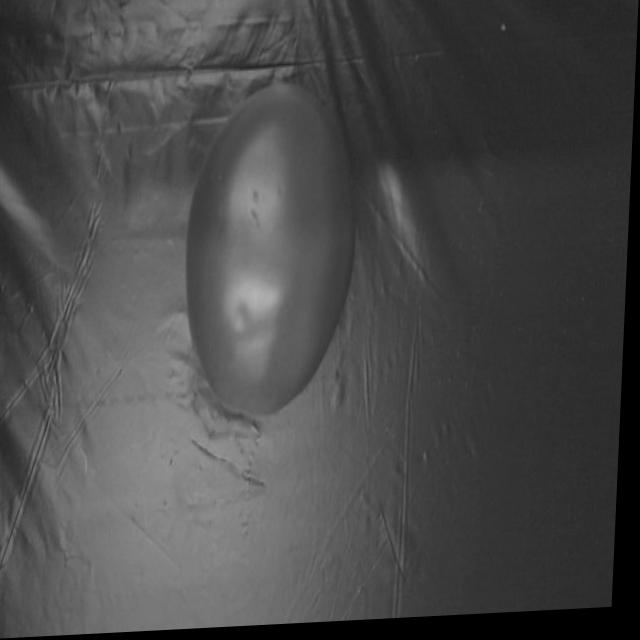kirmizi: (171, 62, 379, 451)
